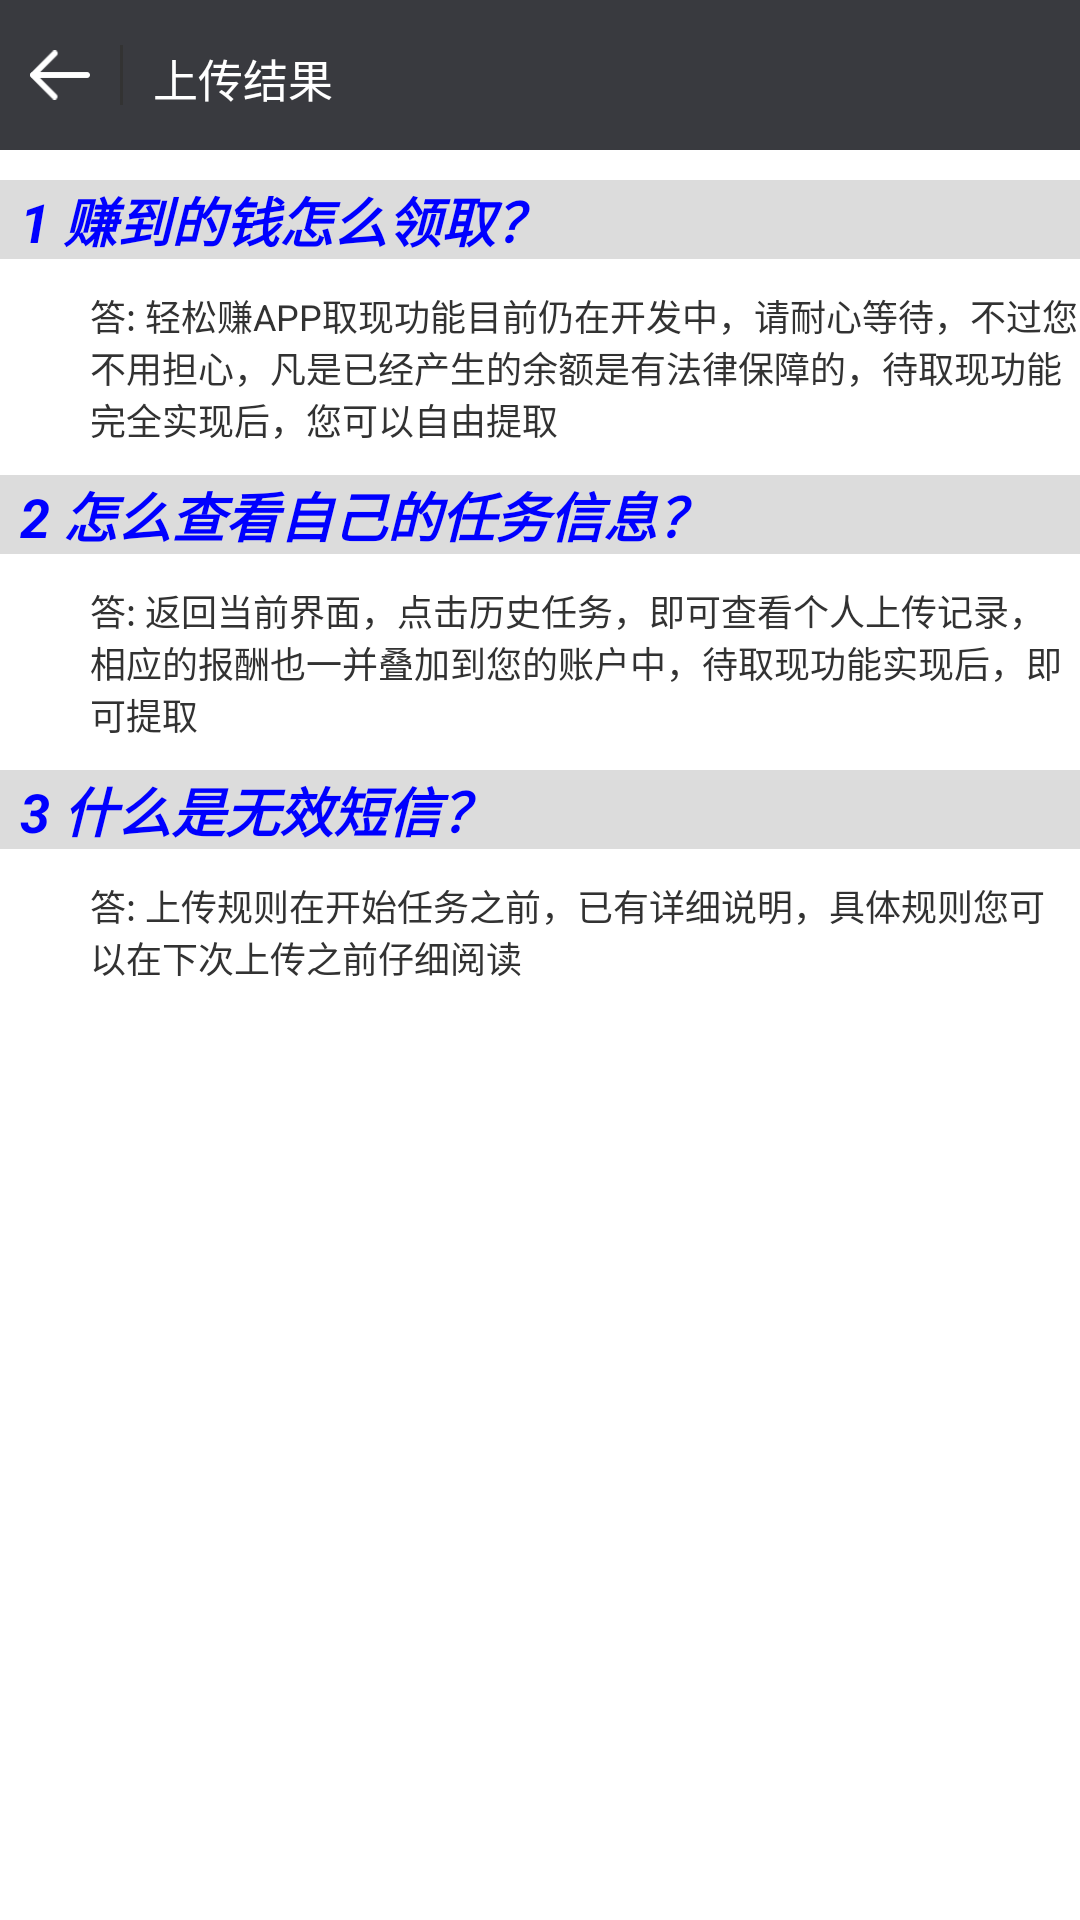

Icons on this 1080px×1920px Android screen, each with its box as (x1, y1, x2, y2):
返回: (30, 50, 90, 100)
